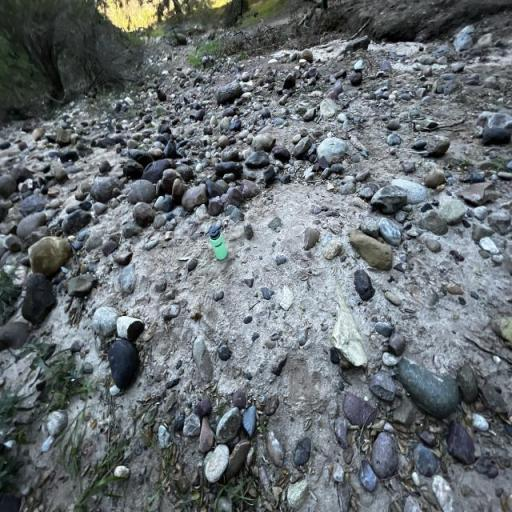bottle: (209, 226, 228, 260)
